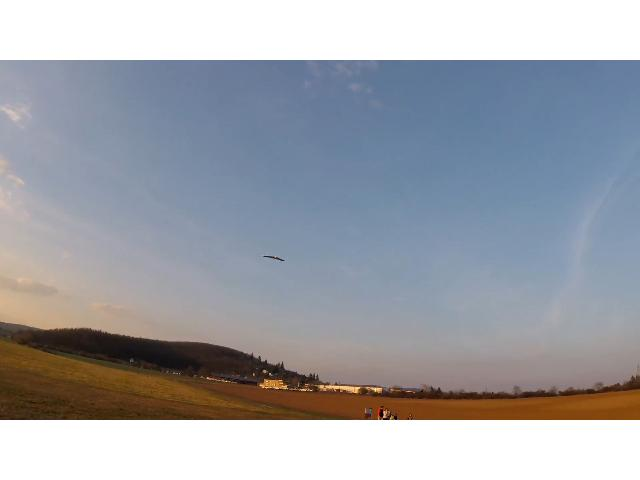Anti-Drone: (263, 256, 285, 262)
